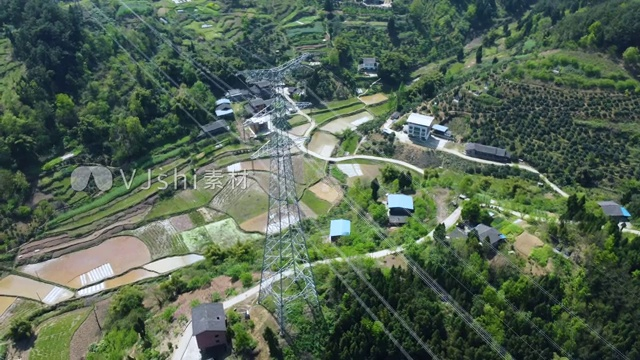tower_body: (229, 48, 333, 338)
tower_foot: (252, 266, 325, 335)
tower_head: (234, 53, 310, 86)
